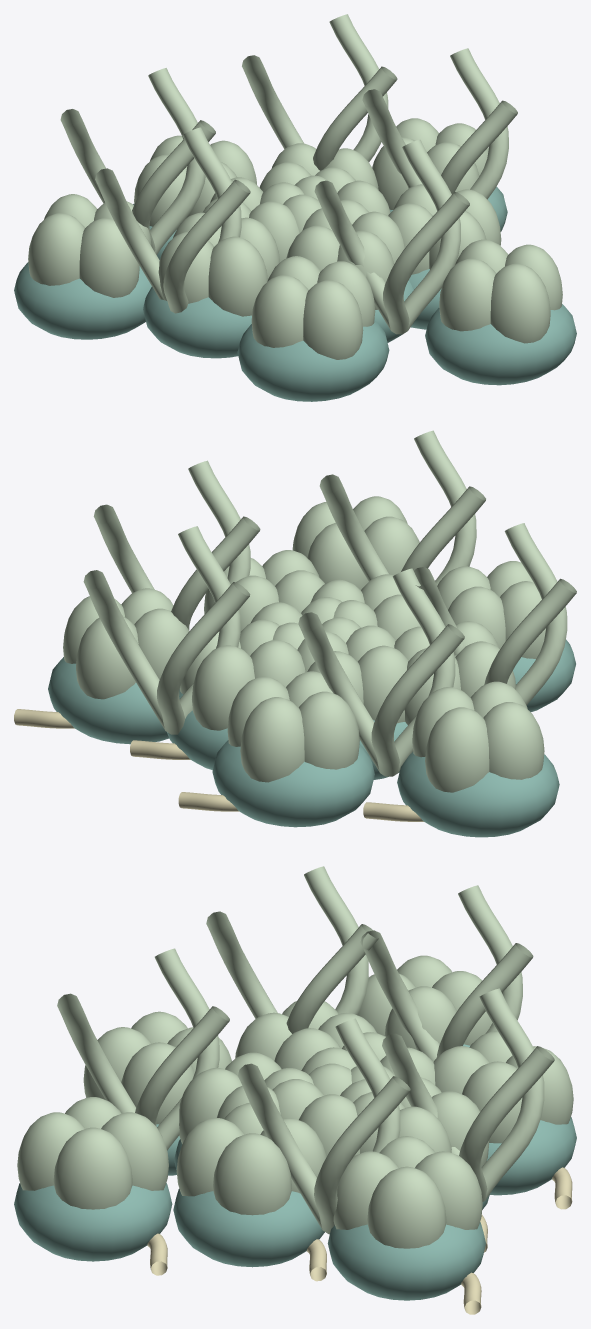
Rendered from bio_oxygen_reef_09_near.glb.
3 views of the same model, one above another, from view 1: azimuth 30°, elevation 25°; view 2: azimuth 150°, elevation 25°; view 3: azimuth 270°, elevation 25° (orthographic). The views are drawn at different scales.
Visible parts, largest first — view 1: Lobed gas sac.028, Lobed gas sac.040, Spiral filament.006, Lobed gas sac.036, Spiral filament.012, Photosynthetic cushion.007, Photosynthetic cushion.010, Spiral filament.003, Lobed gas sac.016, Spiral filament, Spiral filament.009, Photosynthetic cushion.009 (+9 smaller); view 2: Lobed gas sac.036, Lobed gas sac.024, Spiral filament.009, Spiral filament.003, Photosynthetic cushion.006, Photosynthetic cushion.009, Lobed gas sac.032, Spiral filament.006, Spiral filament.012, Lobed gas sac.012, Spiral filament, Lobed gas sac.040 (+13 smaller); view 3: Lobed gas sac.040, Lobed gas sac.032, Lobed gas sac.020, Spiral filament, Spiral filament.009, Spiral filament.006, Spiral filament.012, Photosynthetic cushion.010, Photosynthetic cushion.008, Spiral filament.003, Photosynthetic cushion.005, Lobed gas sac.024 (+12 smaller).
Part boxes in pixels (x1,y1,x2,y2): Lobed gas sac.028: (251, 256, 375, 359); Lobed gas sac.040: (439, 239, 562, 343); Spiral filament.006: (314, 139, 469, 334); Lobed gas sac.036: (28, 194, 151, 297); Spiral filament.012: (95, 127, 250, 313); Photosynthetic cushion.007: (237, 320, 389, 401); Photosynthetic cushion.010: (425, 304, 576, 385); Spiral filament.003: (60, 68, 215, 254); Lobed gas sac.016: (158, 212, 279, 316); Spiral filament: (362, 48, 517, 199); Spiral filament.009: (242, 14, 397, 170); Photosynthetic cushion.009: (14, 262, 151, 339); Lobed gas sac.036: (412, 681, 544, 792); Lobed gas sac.024: (227, 671, 359, 782); Spiral filament.009: (83, 526, 250, 734); Spiral filament.003: (298, 568, 464, 776); Photosynthetic cushion.006: (212, 740, 374, 827); Photosynthetic cushion.009: (397, 752, 559, 837); Lobed gas sac.032: (63, 588, 189, 699); Spiral filament.006: (319, 430, 485, 585); Spiral filament.012: (414, 523, 576, 705); Lobed gas sac.012: (180, 619, 305, 730); Spiral filament: (93, 460, 260, 630); Lobed gas sac.040: (292, 496, 419, 590); Lobed gas sac.040: (17, 1097, 168, 1209); Lobed gas sac.032: (333, 1136, 482, 1248); Lobed gas sac.020: (176, 1102, 326, 1215); Spiral filament: (238, 1018, 410, 1234); Spiral filament.009: (382, 988, 554, 1201); Spiral filament.006: (57, 948, 229, 1150); Spiral filament.012: (206, 866, 378, 1033); Photosynthetic cushion.010: (14, 1183, 172, 1261); Photosynthetic cushion.008: (327, 1222, 485, 1300); Spiral filament.003: (360, 885, 533, 1061); Photosynthetic cushion.005: (173, 1188, 324, 1267); Lobed gas sac.024: (433, 1031, 573, 1143).
Size of the model in its own units: 1.85 by 0.7514 by 1.71.
